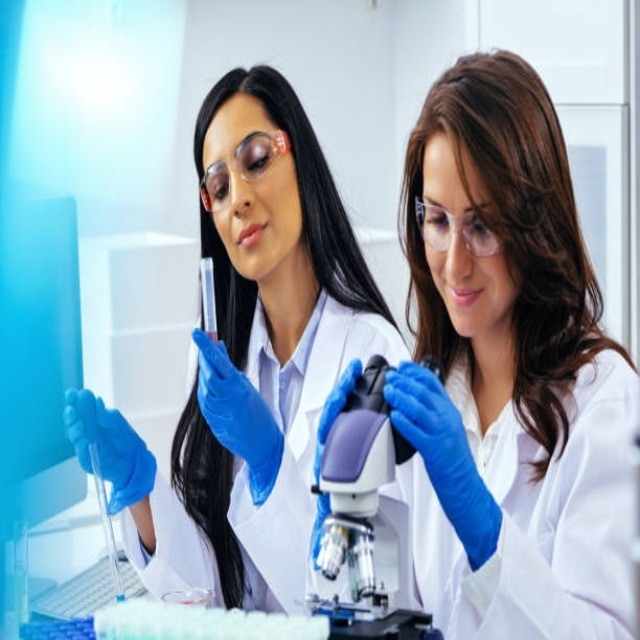Gafas: (200, 130, 290, 213), (416, 196, 512, 257)
Guantes: (382, 357, 504, 572), (192, 327, 286, 508), (63, 385, 157, 515), (312, 357, 364, 488), (310, 491, 333, 572)
Sin_mascara: (438, 273, 490, 325), (229, 215, 276, 260)
